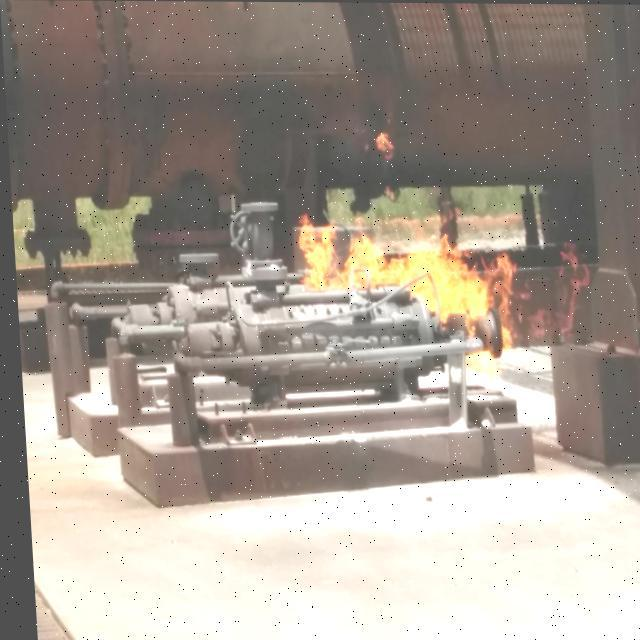Fire: (293, 198, 531, 370)
